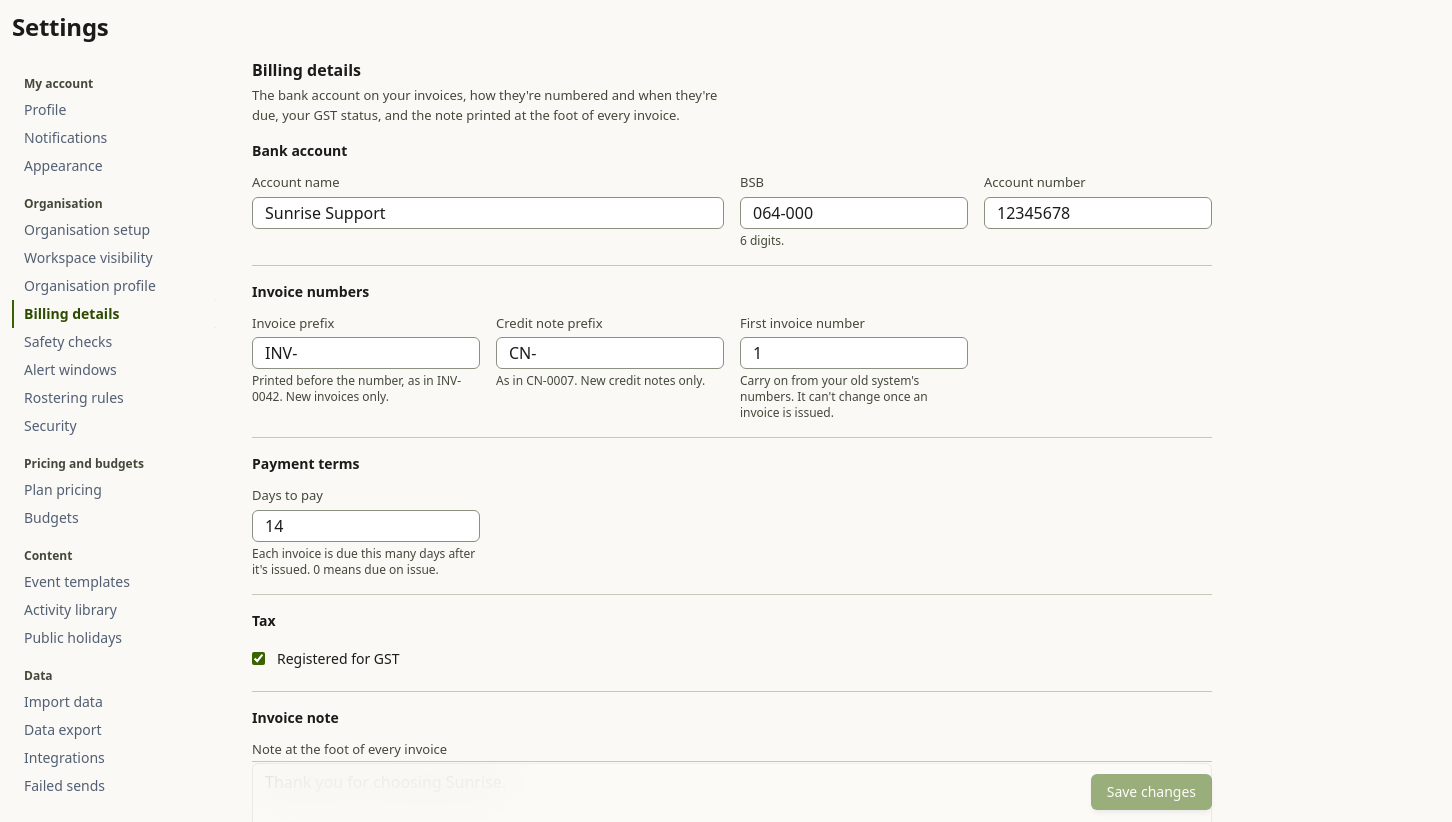
Test: Billing details: invoice numbers and payment terms › Invoice prefix "" says "Enter a prefix, such as INV-." and holds Save
This screenshot has width=1452, height=822.
Clear the field labelled "Invoice prefix" at (366,353), box left=252, top=337, right=480, bottom=369
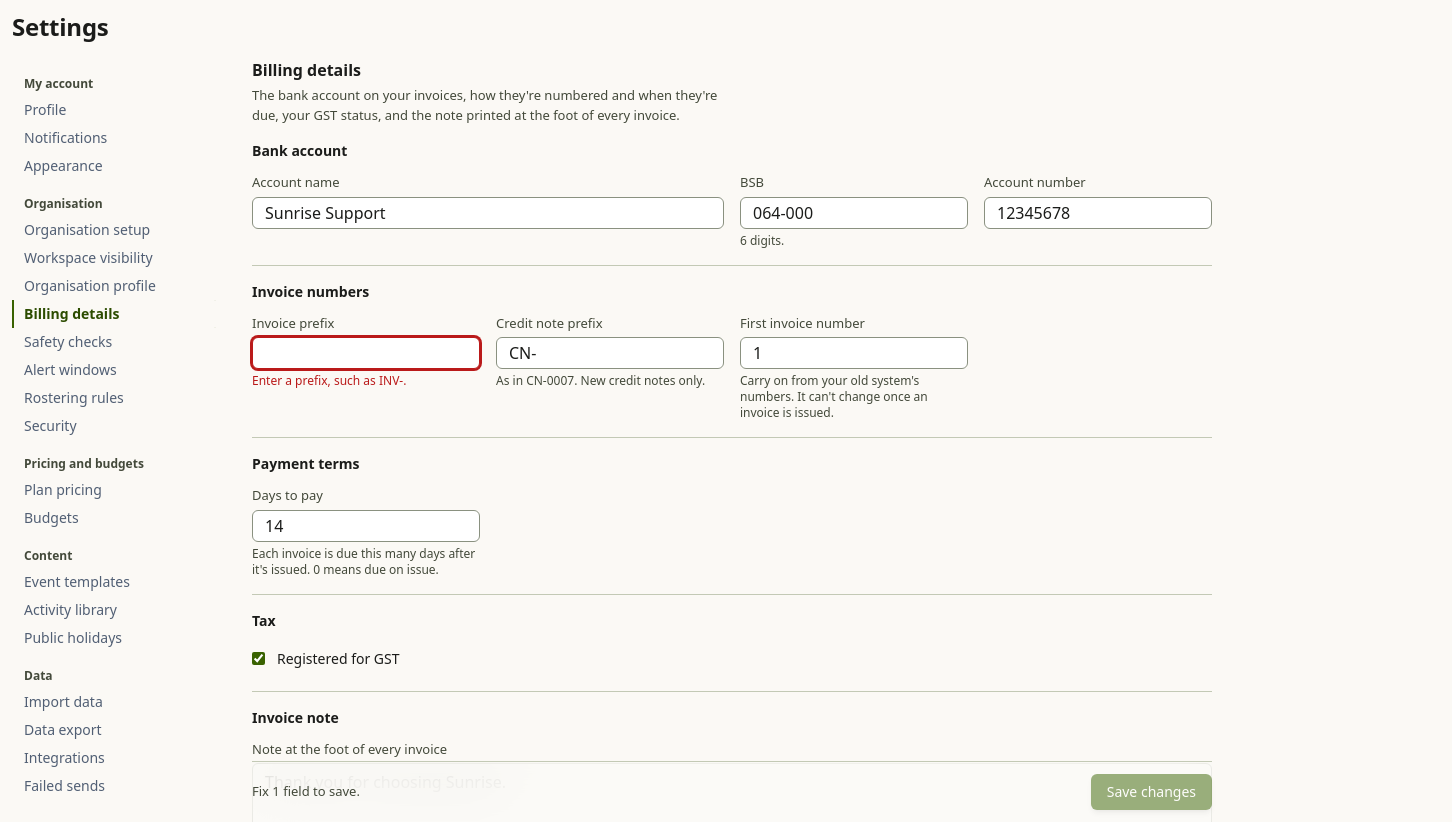
Check: the button "Save changes" is disabled, box left=1091, top=774, right=1212, bottom=810
Check: the text "Enter a prefix, such as INV-." is shown, box left=252, top=372, right=406, bottom=389
Check: the text "Fix 1 field to save." is shown, box left=252, top=782, right=360, bottom=800
